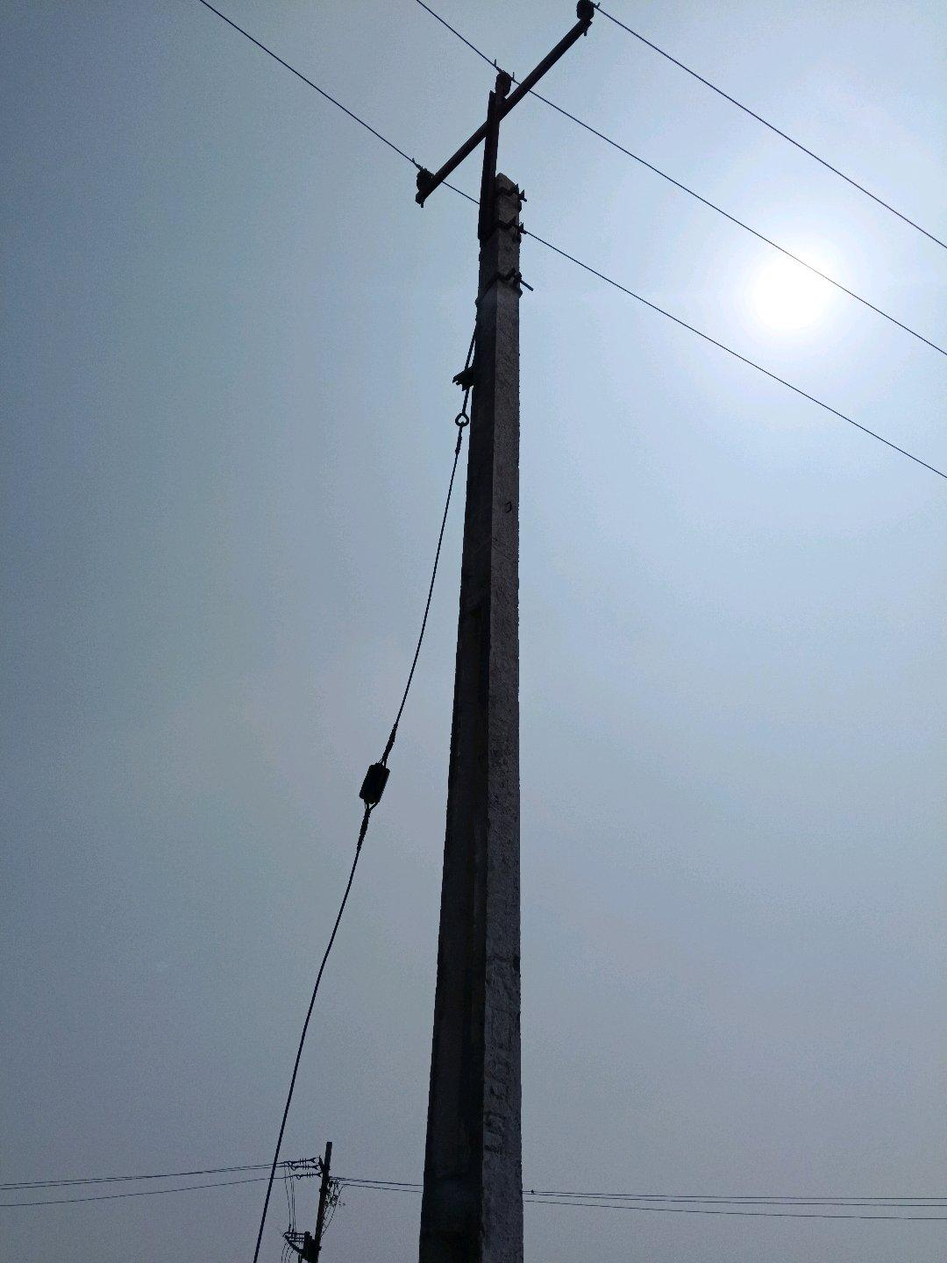{"0" "insulator", "1" "pole", "2" "crossarm", "3" "conductor", "4" "street_: (416, 0, 595, 1262)
